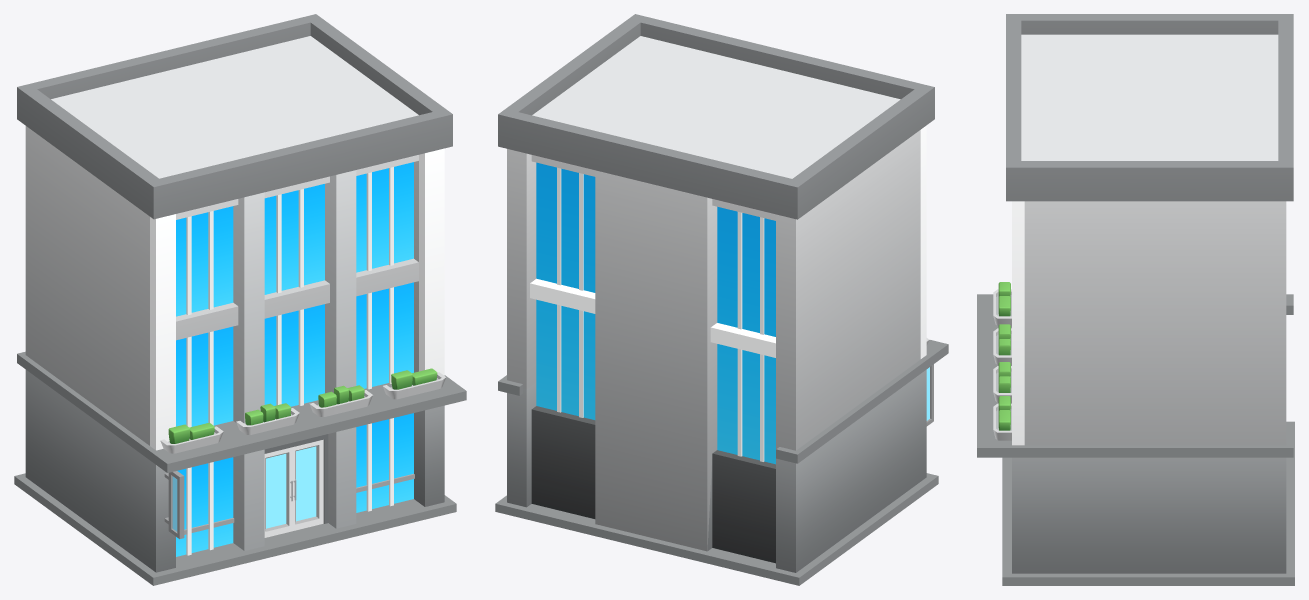
The model's file is Building_Hotel_06.glb.
3 renders of one model, left to right at view 1: azimuth 30°, elevation 25°; view 2: azimuth 150°, elevation 25°; view 3: azimuth 270°, elevation 25°, orthographic. The views are drawn at different scales.
Parts seen in each view (by area): view 1: Building_Hotel_06; view 2: Building_Hotel_06; view 3: Building_Hotel_06.
Part boxes in pixels (left/top/right/bottom): Building_Hotel_06: left=14, top=14, right=466, bottom=585; Building_Hotel_06: left=495, top=14, right=948, bottom=585; Building_Hotel_06: left=977, top=14, right=1294, bottom=585.
Size of the model in its own units: 8.22 by 10.27 by 7.09.
Materials: 1 (1 with a texture image).
